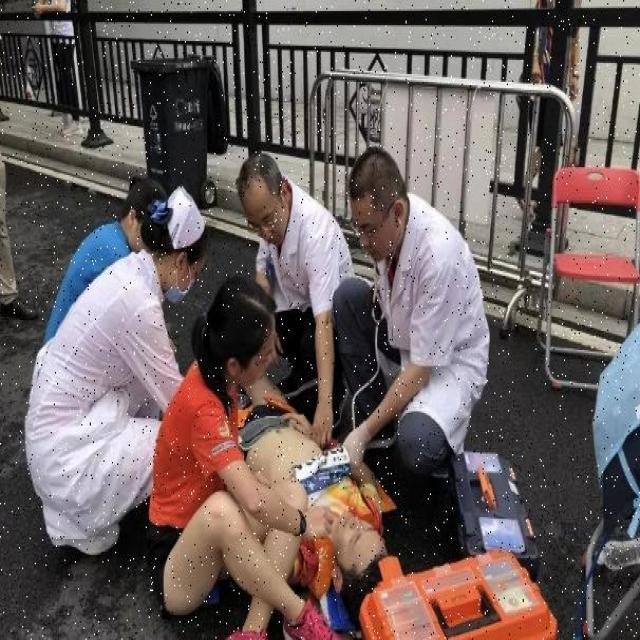fall: (245, 390, 396, 598)
